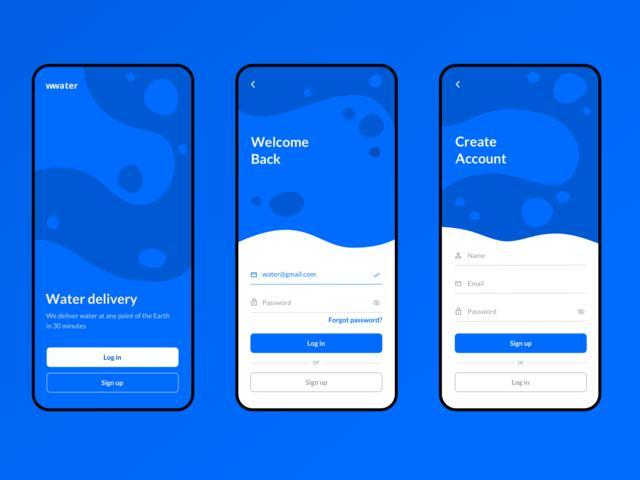button: (454, 333, 589, 356), (47, 347, 181, 370), (455, 372, 589, 394), (251, 372, 384, 394), (46, 373, 181, 394), (251, 333, 384, 354)
icon: (371, 298, 383, 309), (250, 297, 260, 309), (455, 250, 462, 264), (373, 271, 383, 279), (252, 271, 260, 280), (456, 308, 464, 316), (577, 310, 586, 316), (455, 280, 462, 287)
input: (249, 294, 387, 315), (249, 266, 384, 287), (455, 304, 592, 324), (455, 249, 591, 268), (454, 277, 590, 295)
